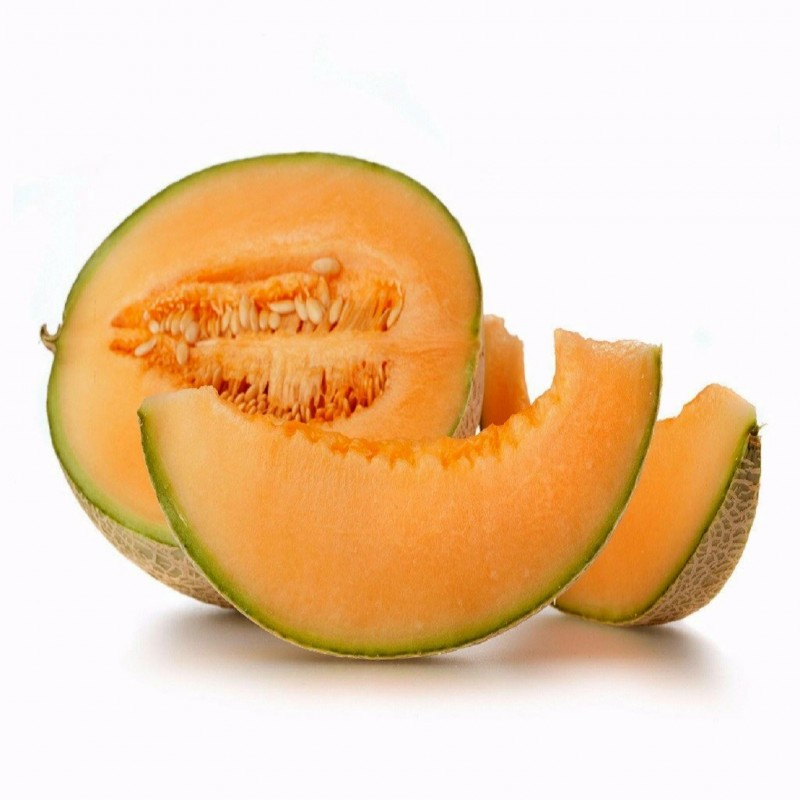Melon: (150, 347, 659, 639), (521, 387, 784, 633)
